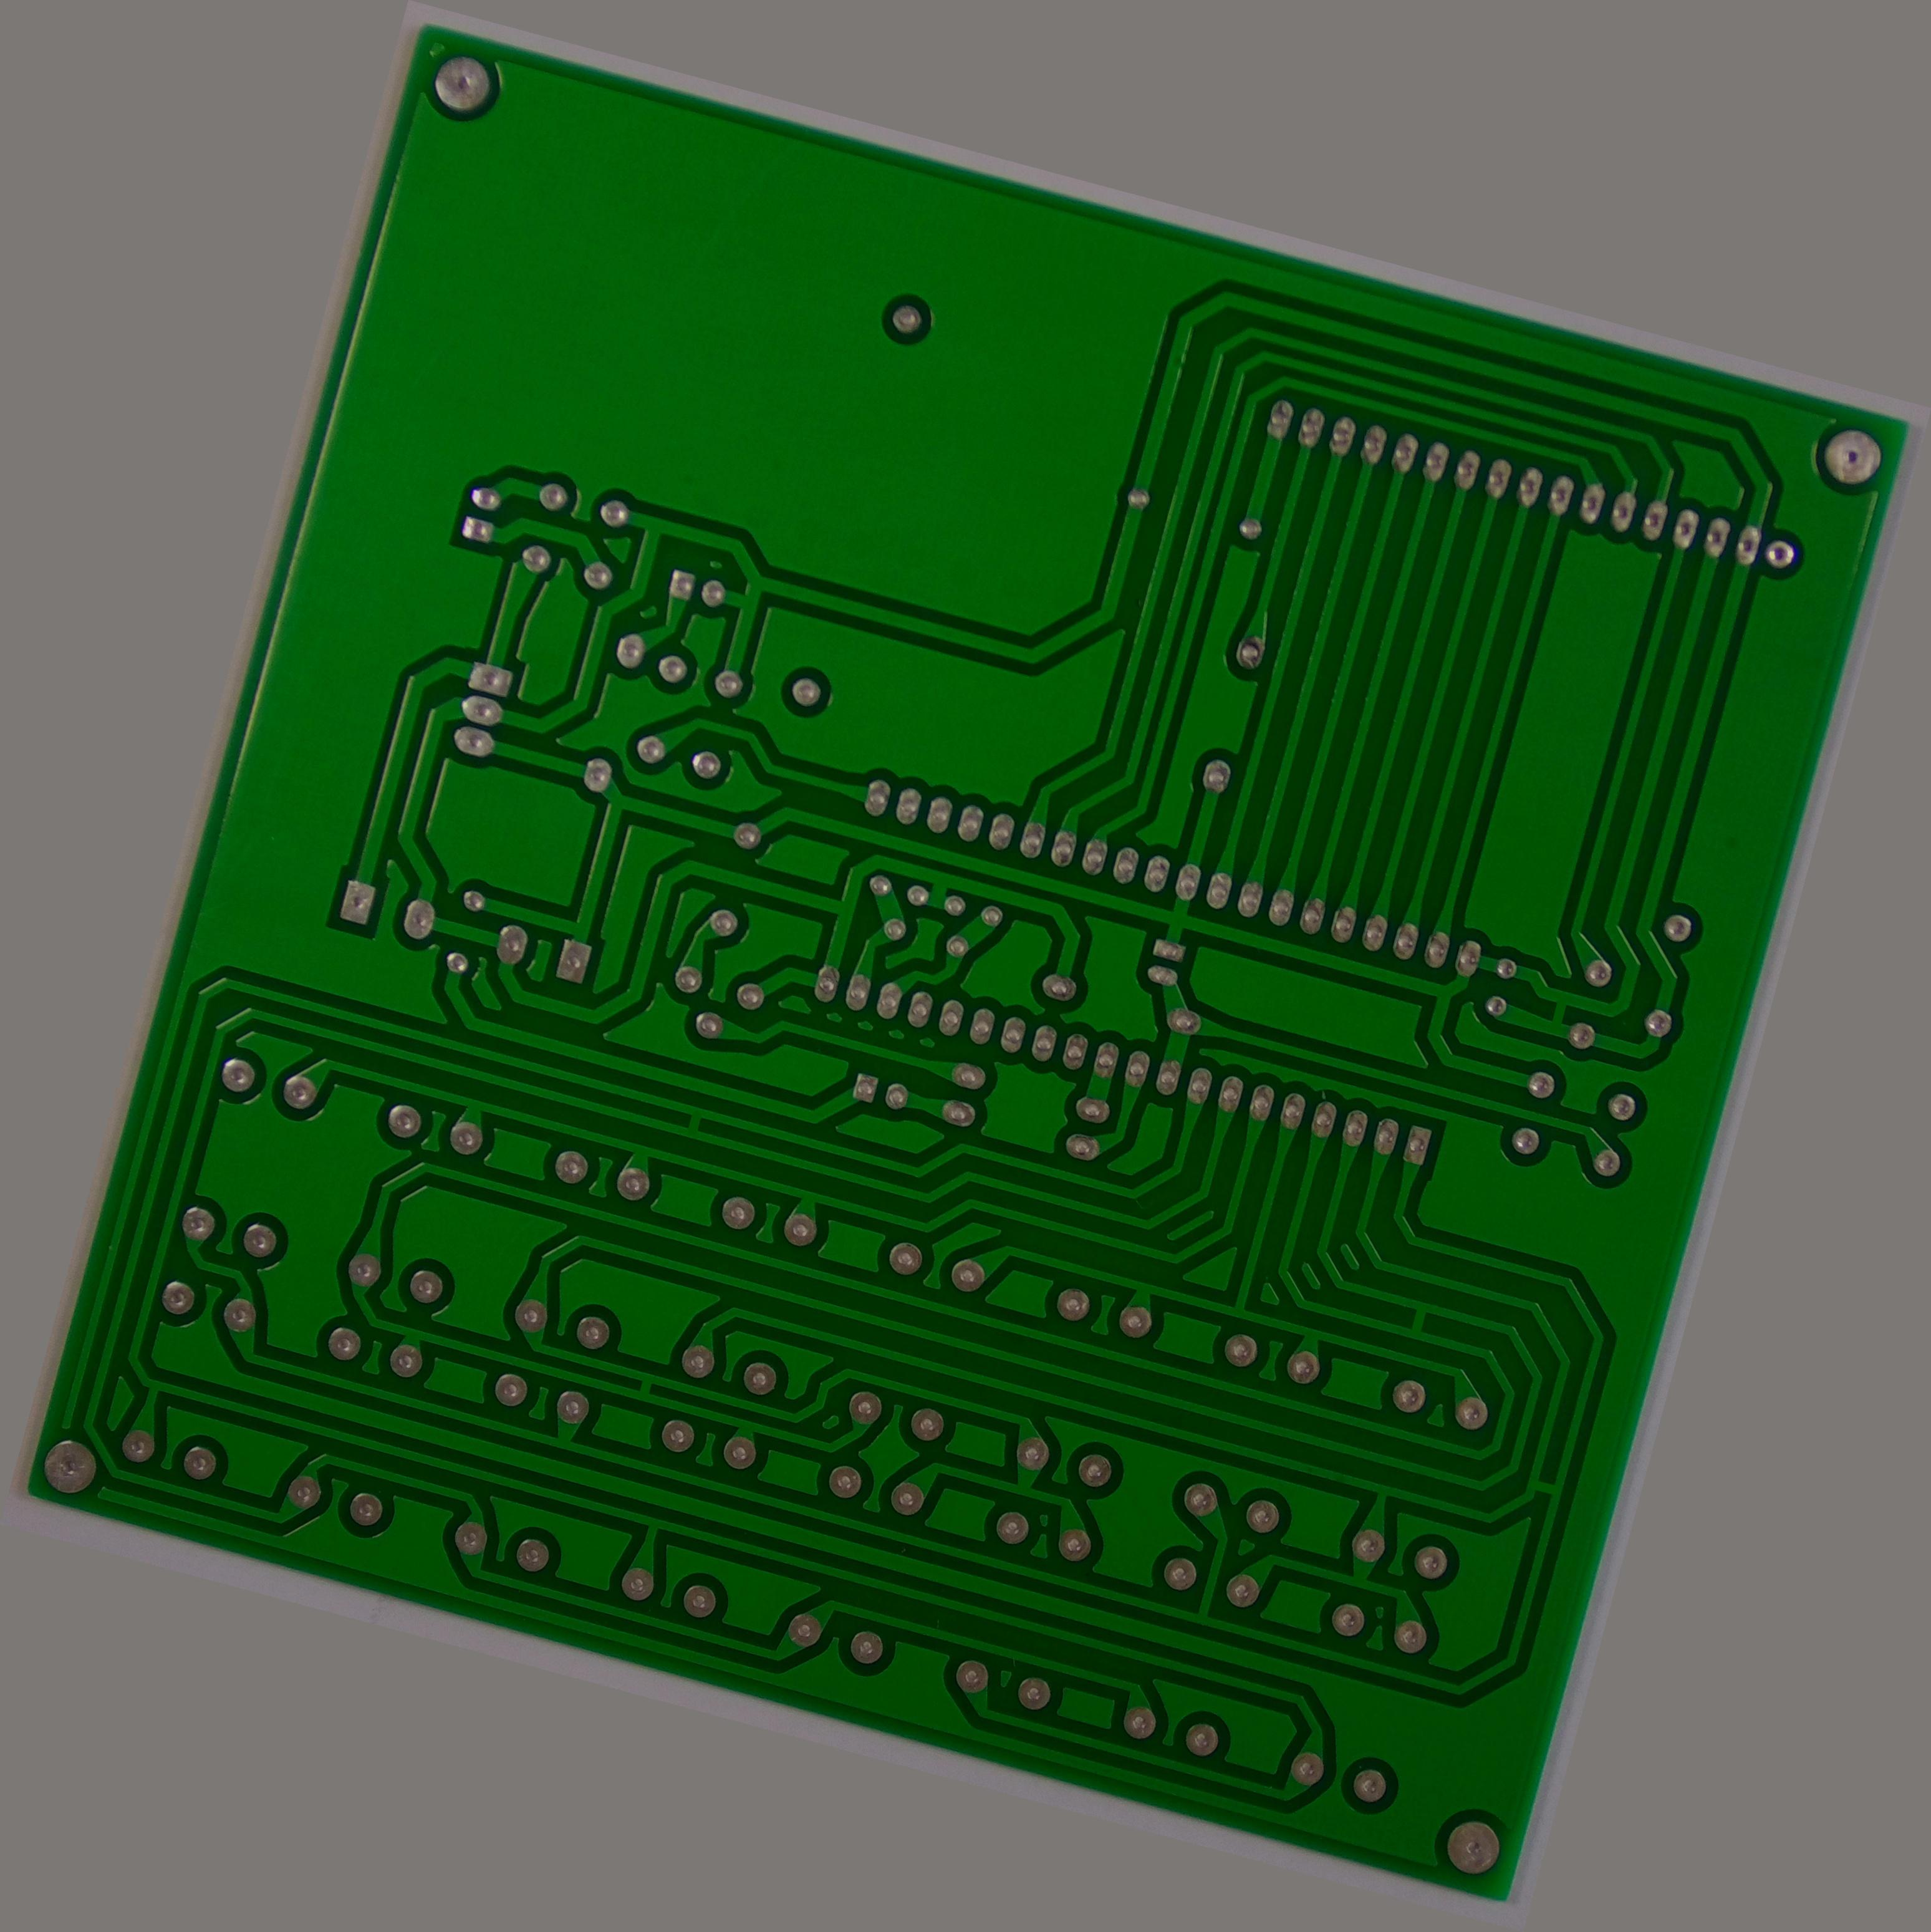short: (1531, 978, 1584, 1039), (1392, 1292, 1441, 1350), (624, 1364, 663, 1414), (1519, 1465, 1568, 1502), (675, 1099, 716, 1141)
